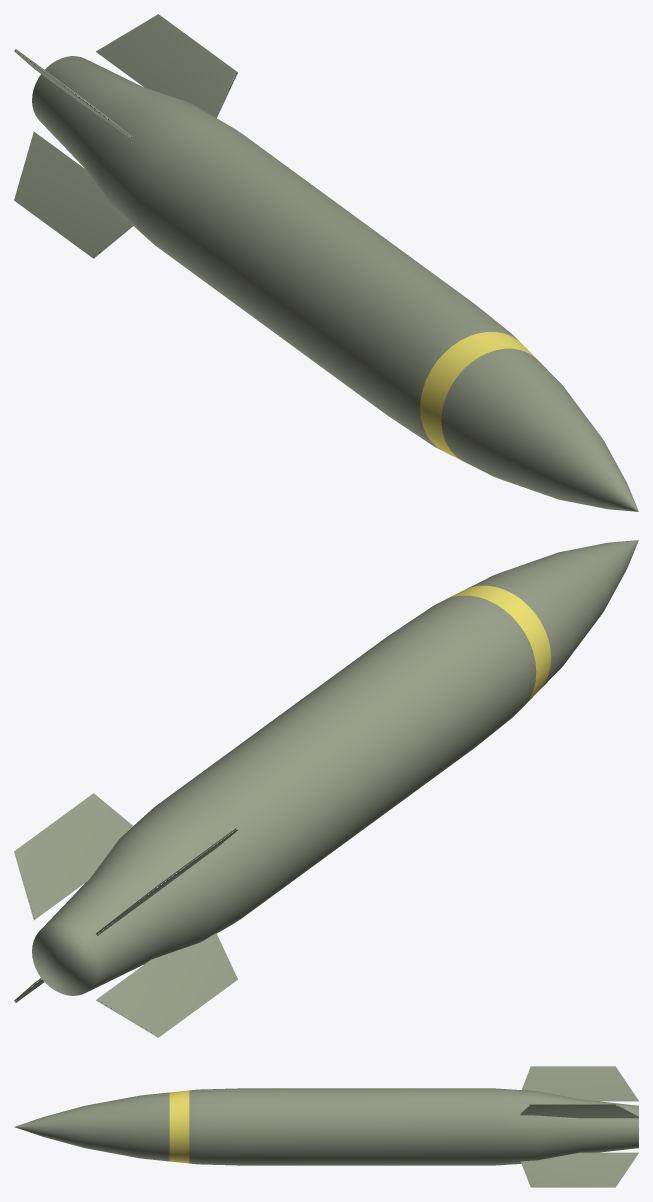
3 views of the same model, one above another, from view 1: azimuth 30°, elevation 25°; view 2: azimuth 150°, elevation 25°; view 3: azimuth 270°, elevation 25° (orthographic). The views are drawn at different scales.
Visible parts, largest first — view 1: mk82-body; view 2: mk82-body; view 3: mk82-body.
Part boxes in pixels (x1,y1,x2,y2): mk82-body: [14, 14, 638, 511]; mk82-body: [14, 540, 638, 1037]; mk82-body: [14, 1066, 638, 1187].
Size of the model in its own units: 0.3256 by 0.3256 by 2.21.
